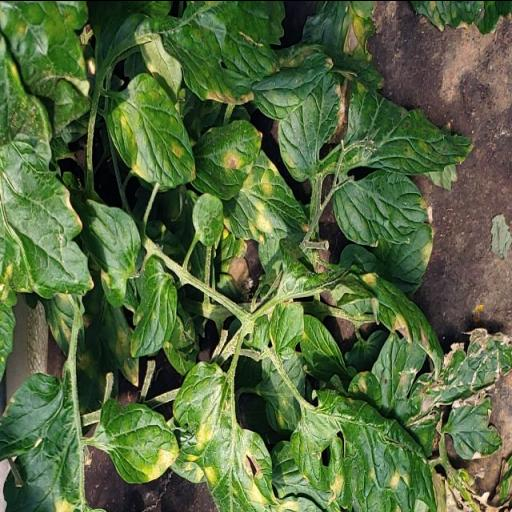disease_tomato: (290, 388, 438, 512), (172, 360, 279, 512), (106, 72, 196, 189), (223, 149, 308, 243), (98, 396, 178, 485), (189, 118, 263, 199)
